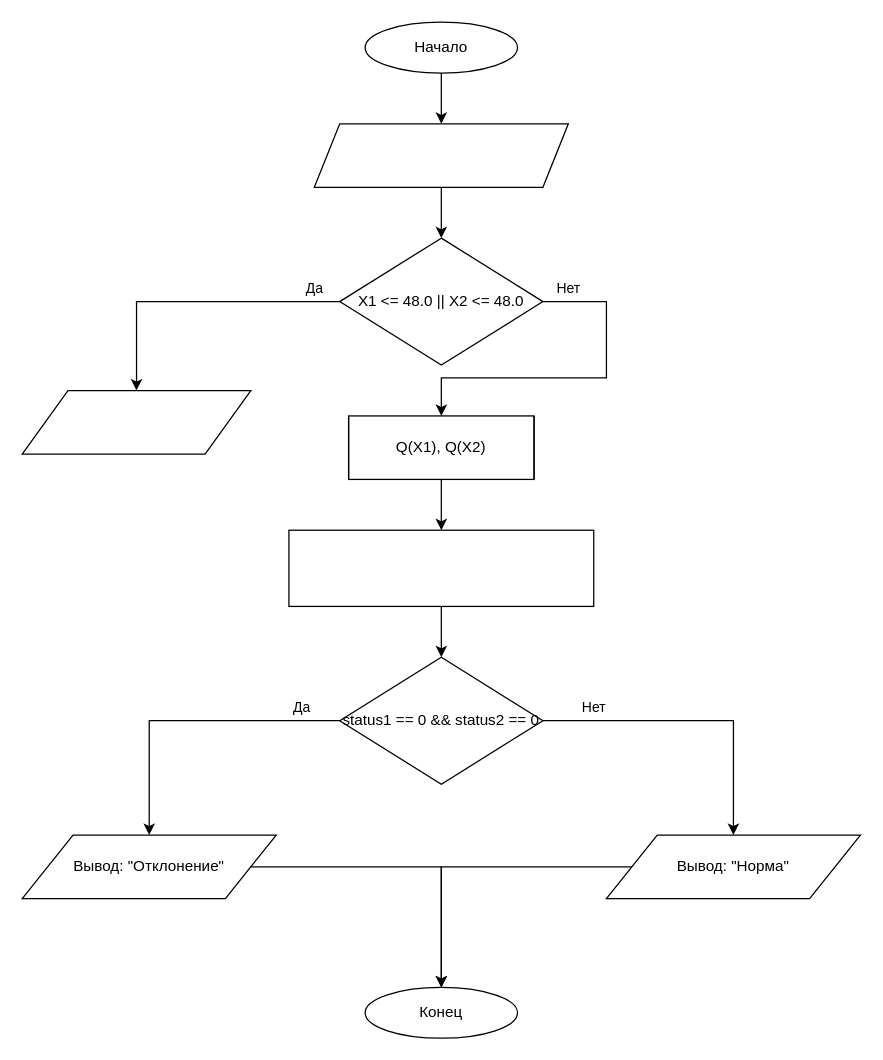
This 883x1060 diagram has some shape labels left out. Each missing label, with the centre of its shape:
status1 = check_control(q1); status2 = check_control(q2);: pixel 441 567
Ввод X1, X2: pixel 440 155
Вывод: "Ошибка ОДЗ": pixel 136 421
